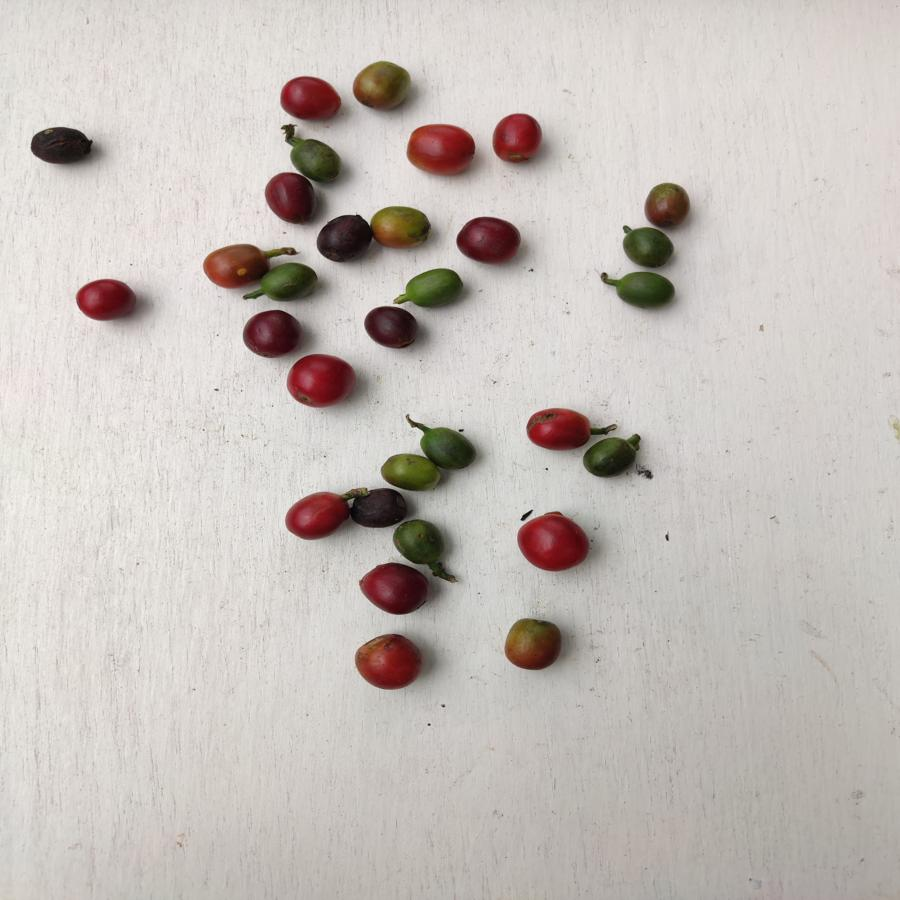Inmaduro: (420, 422, 477, 471), (612, 270, 676, 309), (392, 518, 445, 564), (260, 262, 319, 303), (583, 436, 639, 478), (404, 269, 464, 307), (287, 134, 347, 171), (622, 226, 673, 268)
Maduro: (513, 510, 590, 572), (285, 353, 359, 410), (355, 631, 424, 691), (404, 122, 476, 174), (282, 490, 350, 542), (73, 276, 141, 324), (276, 74, 343, 122), (524, 406, 591, 452), (492, 113, 543, 165)
Pinton: (503, 617, 562, 671), (350, 59, 411, 111), (370, 202, 431, 249), (201, 244, 259, 289), (379, 453, 443, 492), (646, 181, 690, 229)
Sobremaduro: (358, 563, 429, 617), (455, 216, 522, 264), (262, 171, 318, 224), (243, 308, 301, 359), (27, 124, 94, 164), (363, 306, 420, 352), (316, 215, 371, 262), (351, 487, 407, 527)
